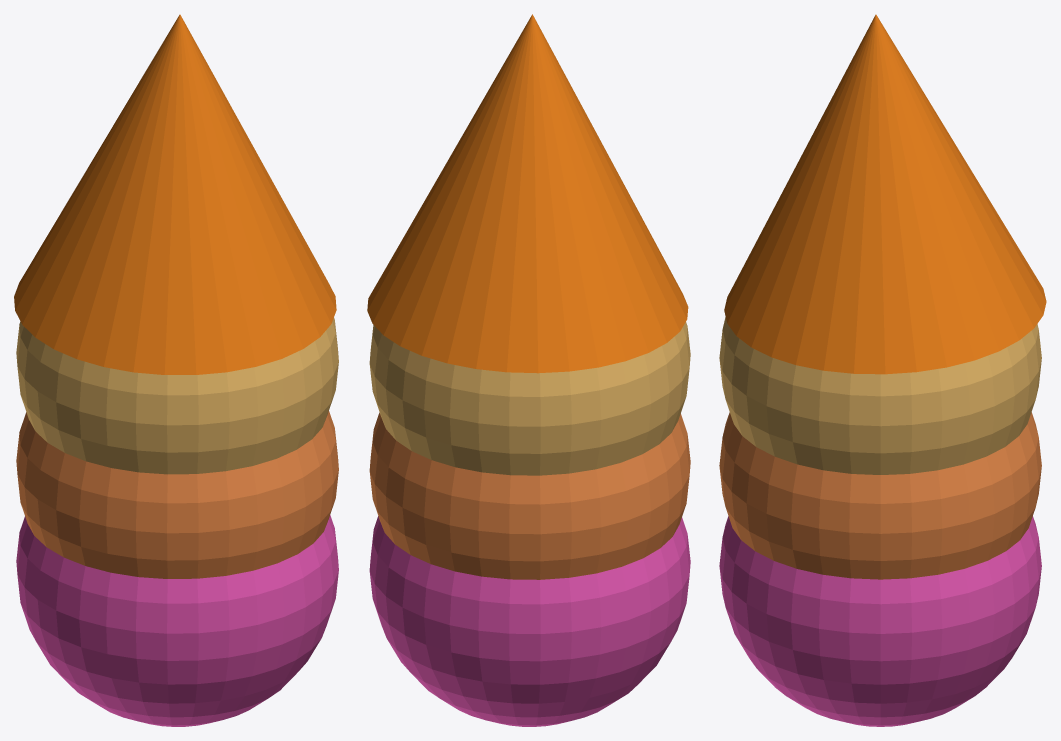
Rendered from ICECREAM.fbx.
The picture shows the model from 3 angles, left to right: view 1: azimuth 30°, elevation 25°; view 2: azimuth 150°, elevation 25°; view 3: azimuth 270°, elevation 25°; orthographic projection.
Visible parts, largest first — view 1: Cone, Sphere.002, Sphere.001, Sphere; view 2: Cone, Sphere.002, Sphere.001, Sphere; view 3: Cone, Sphere.002, Sphere.001, Sphere.
Boxes of the visible parts, x1,y1,x2,y2 form: Cone: (14,14,336,374); Sphere.002: (16,515,338,726); Sphere.001: (16,411,338,578); Sphere: (16,318,338,474); Cone: (367,14,688,373); Sphere.002: (369,516,690,726); Sphere.001: (369,412,690,579); Sphere: (369,322,690,475); Cone: (724,14,1046,374); Sphere.002: (719,516,1041,726); Sphere.001: (719,412,1041,579); Sphere: (719,317,1041,474).
Bounding box in the file's own units: 200 × 478 × 203.
